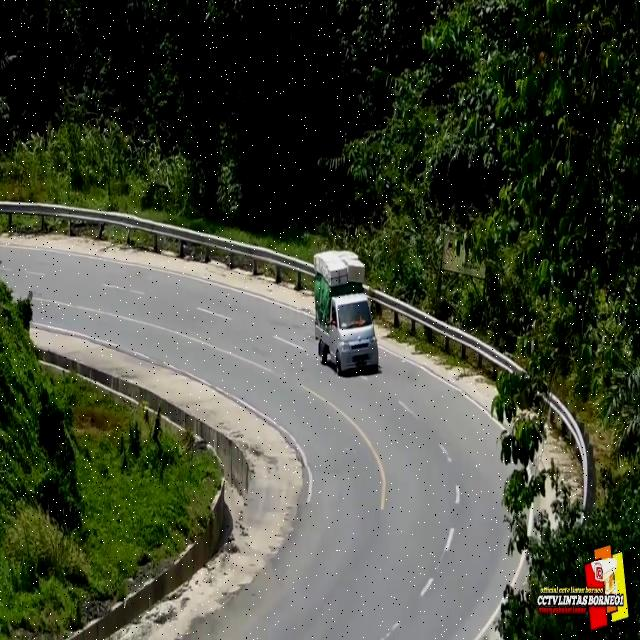Golongan IVB: (314, 294, 378, 376)
